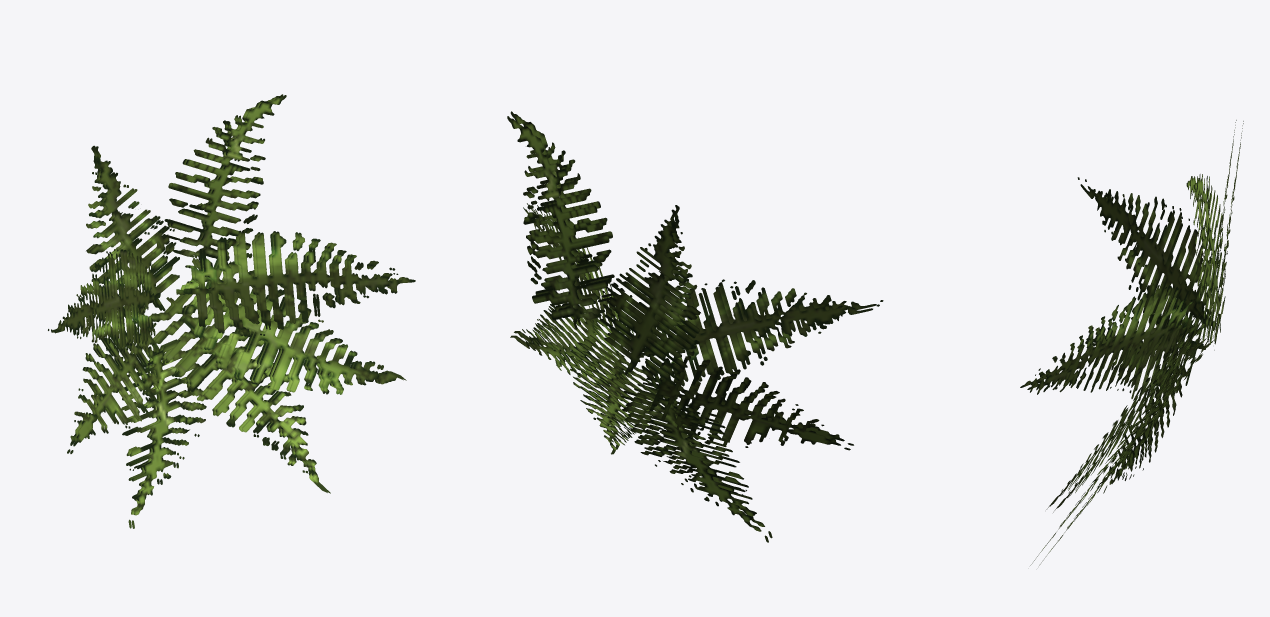
The model's file is ferns_sm_a.glb.
3 renders of one model, left to right at view 1: azimuth 30°, elevation 25°; view 2: azimuth 150°, elevation 25°; view 3: azimuth 270°, elevation 25°, orthographic. The views are drawn at different scales.
Visible parts, largest first — view 1: ferns_sm_a; view 2: ferns_sm_a; view 3: ferns_sm_a.
Part boxes in pixels (x1,y1,x2,y2): ferns_sm_a: (48, 94, 415, 528); ferns_sm_a: (507, 111, 883, 542); ferns_sm_a: (1020, 120, 1243, 565).
Size of the model in its own units: 5.8 by 6.47 by 2.72.
1 material, 1 textured.
